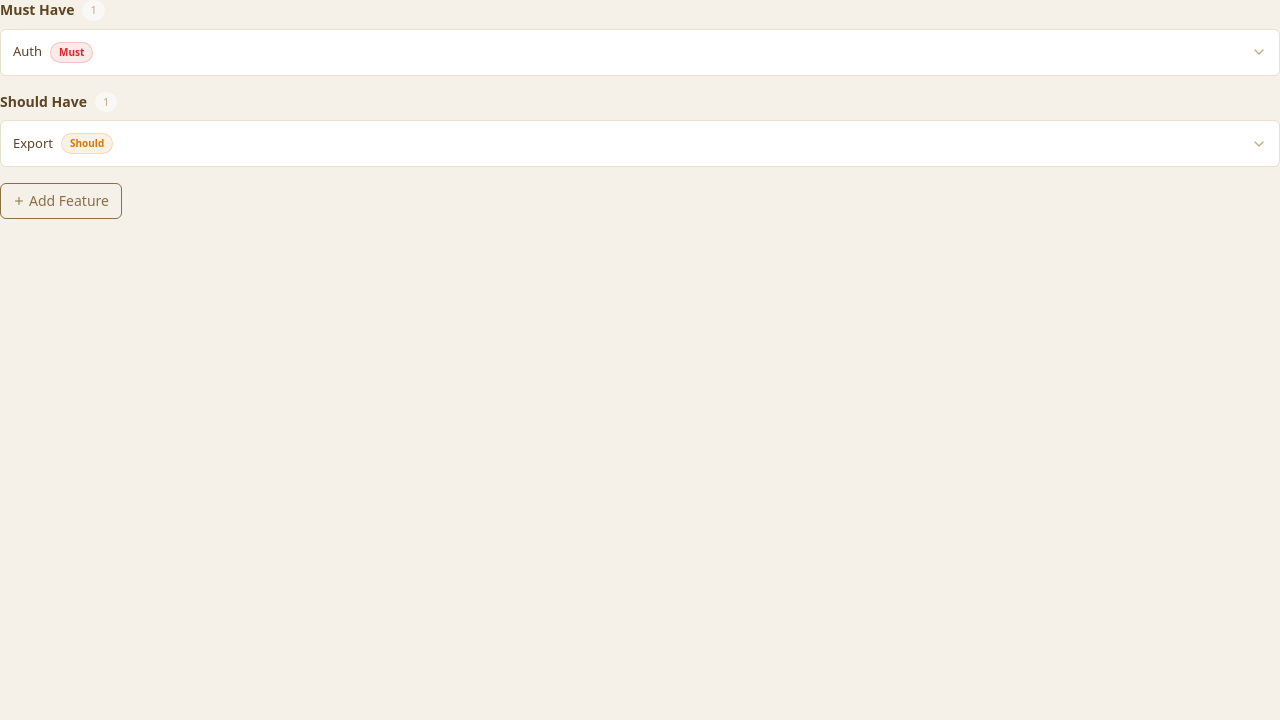
Scenario: FeatureList › opens add feature modal
Click the button "Add Feature".
click(61, 201)  # box [0,183,122,219]
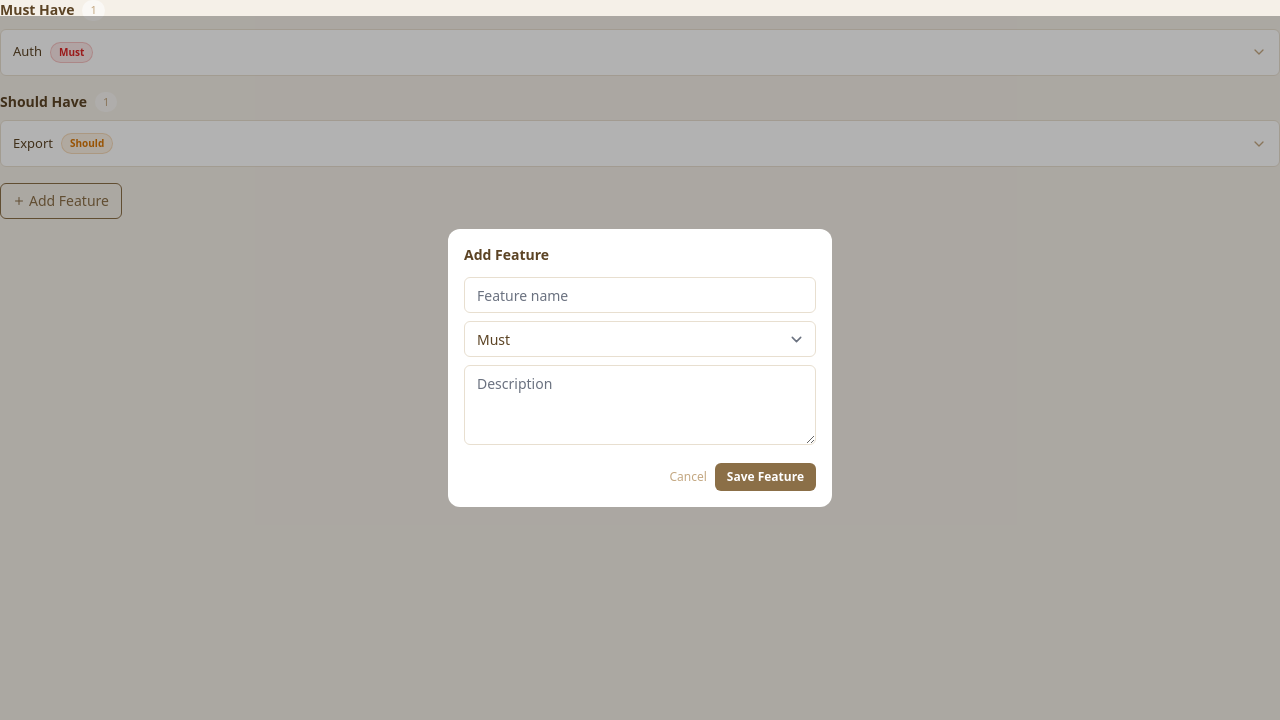
Expected: the button "Save Feature" is shown, [715,463,816,491]
